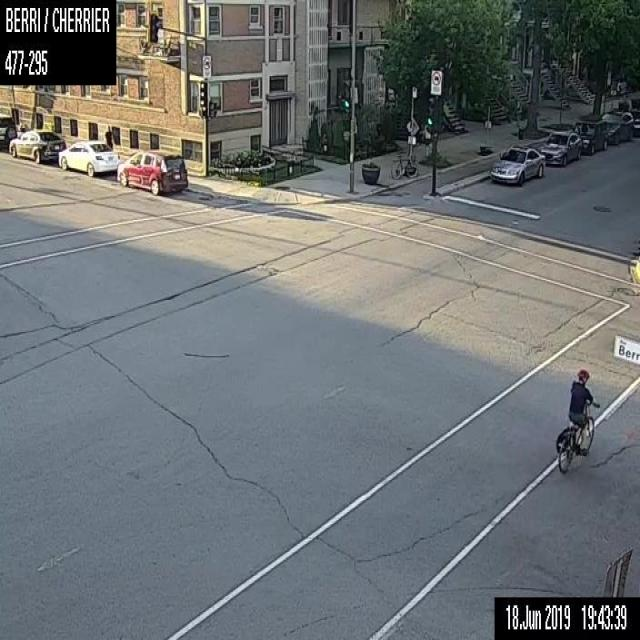cyclist: (556, 369, 601, 471)
pedestrian: (104, 124, 112, 146)
vehicle: (117, 150, 188, 193), (58, 140, 117, 175), (8, 128, 66, 163), (488, 148, 544, 184), (538, 131, 581, 166), (572, 116, 608, 154), (601, 110, 633, 144), (0, 112, 16, 150), (631, 110, 639, 135)
